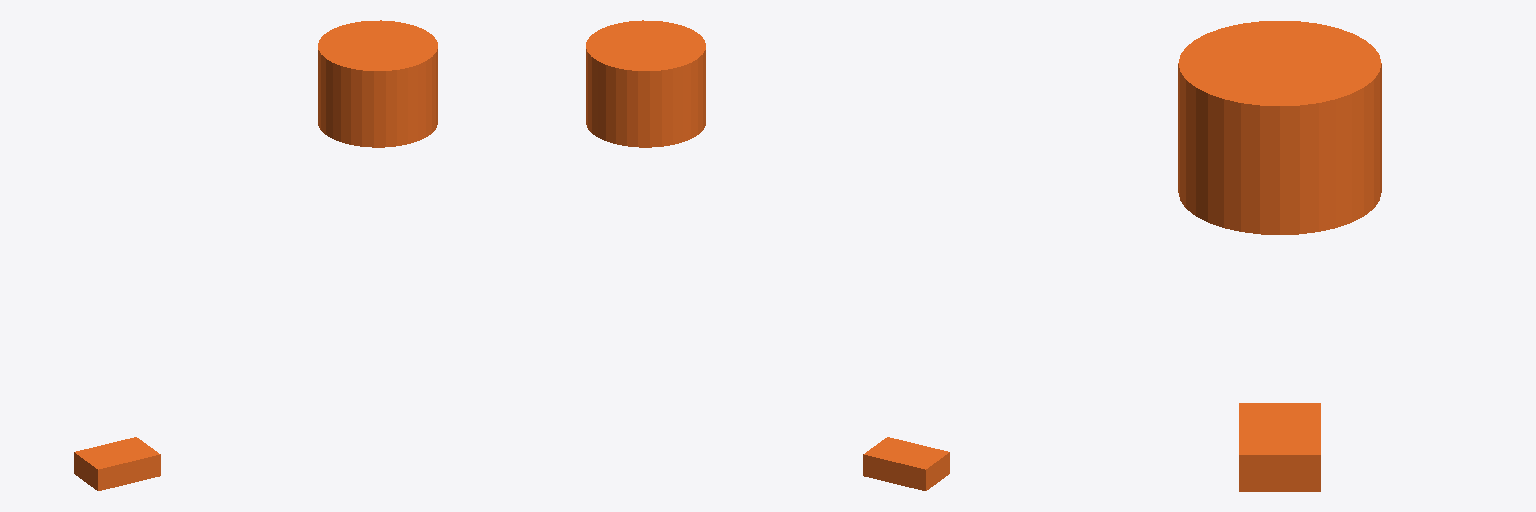
robot.urdf — agilex_scout_rs16:
<!--
  Copyright 2016 The Cartographer Authors

  Licensed under the Apache License, Version 2.0 (the "License");
  you may not use this file except in compliance with the License.
  You may obtain a copy of the License at

       http://www.apache.org/licenses/LICENSE-2.0

  Unless required by applicable law or agreed to in writing, software
  distributed under the License is distributed on an "AS IS" BASIS,
  WITHOUT WARRANTIES OR CONDITIONS OF ANY KIND, either express or implied.
  See the License for the specific language governing permissions and
  limitations under the License.

  Reference:
   [1] https://github.com/IntelRealSense/librealsense/blob/master/doc/d435i.md

-->

<robot name="agilex_scout_rs16">
  <material name="orange">
    <color rgba="1.0 0.5 0.2 1" />
  </material>
  <material name="gray">
    <color rgba="0.2 0.2 0.2 1" />
  </material>

  <!-- Robosense16 -->
  <link name="rslidar">
    <visual>
      <origin xyz="0.0 0.0 0.0" />
      <geometry>
        <cylinder length="0.07" radius="0.05" />
      </geometry>
      <material name="orange" />
    </visual>
  </link>

  <!-- Realsense D435i -->
  <link name="imu_link">
    <visual>
      <origin xyz="0.0 0.0 0.0" />
      <geometry>
        <box size="0.06 0.04 0.02" />
      </geometry>
      <material name="orange" />
    </visual>
  </link>

  <link name="base_link" />

  <joint name="rslidar_joint" type="fixed">
    <parent link="base_link" />
    <child link="rslidar" />
    <origin xyz="0.25 0.0 0.29" rpy="0 0 0" />
  </joint>

  <joint name="imu_joint" type="fixed">
    <parent link="base_link" />
    <child link="imu_link" />
    <origin xyz="0 0 0" rpy="0 0 0" />
  </joint>

  <!-- 
  <joint name="imu_joint" type="fixed">
    <parent link="base_link" />
    <child link="camera_imu_optical_frame" />
    <origin xyz="0 0 0.0" rpy="-1.57 0 -1.57" />
  </joint>
  -->
</robot>

--- Facts derived from the render (not from the file) ---
Views: 3 orthographic renders of the robot side by side, from view 1: azimuth 30°, elevation 25°; view 2: azimuth 150°, elevation 25°; view 3: azimuth 270°, elevation 25°.
Model agilex_scout_rs16 with 3 links and 2 joints (2 fixed), rooted at base_link, posed every joint at zero.
Links seen in each view (by area): view 1: rslidar, imu_link; view 2: rslidar, imu_link; view 3: rslidar, imu_link.
Boxes of the visible links, <box> form: rslidar: <box>318,20,437,147</box>; imu_link: <box>74,437,160,490</box>; rslidar: <box>586,20,705,147</box>; imu_link: <box>863,437,949,490</box>; rslidar: <box>1178,21,1381,234</box>; imu_link: <box>1239,403,1320,491</box>.
Bounding box of the posed robot: 0.33 × 0.1 × 0.335 m (x, y, z).
Geometry: primitives only (box / cylinder / sphere), no mesh files.